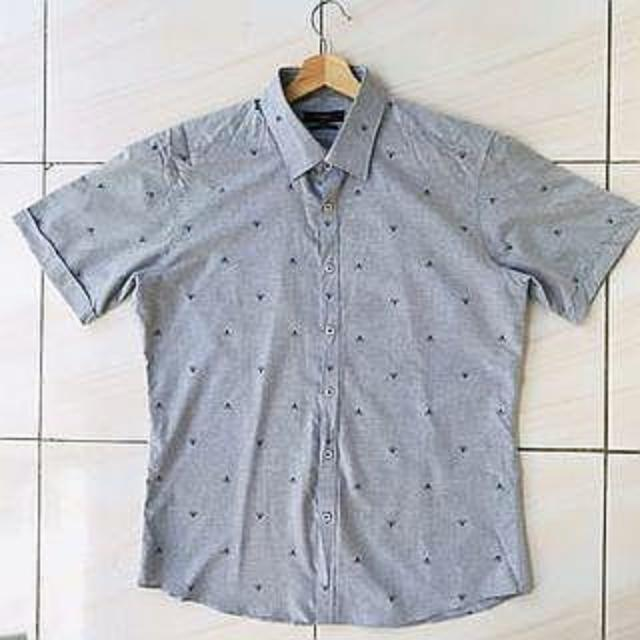SHIRT: (0, 52, 640, 639)
